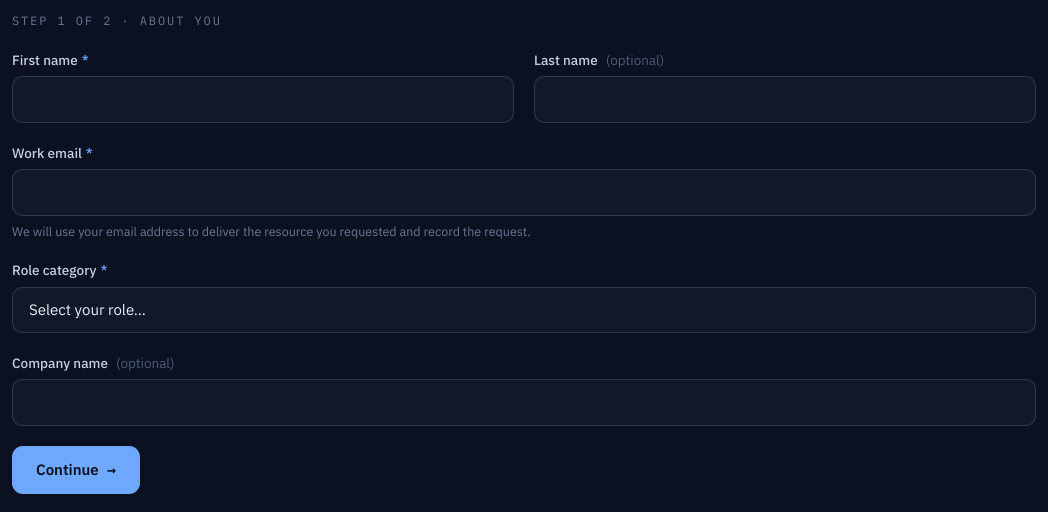
Test: LeadMagnetForm › validates the email format
The width and height of the screenshot is (1048, 512).
In the field labelled "First name*": (263,100) [12,76,514,123], type "Ada"
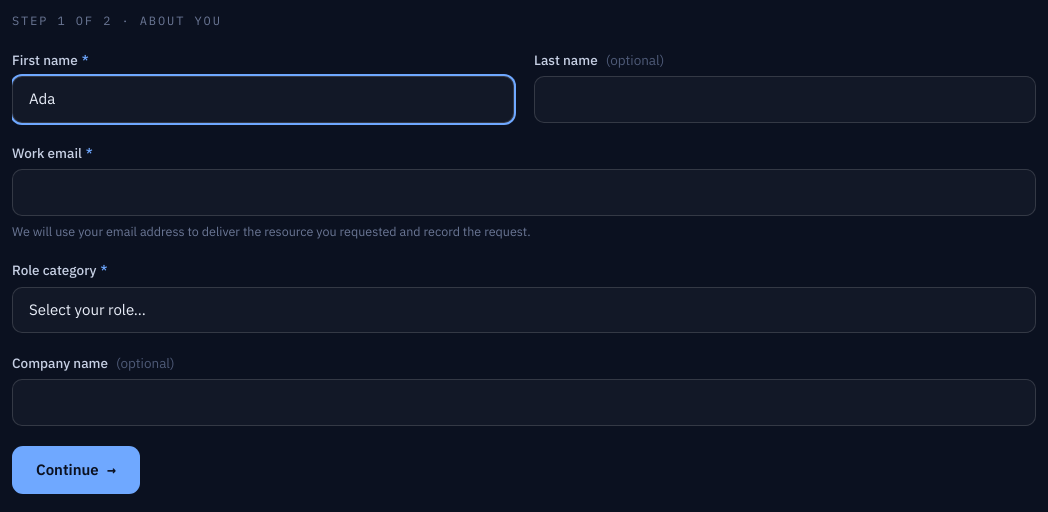
In the field labelled "Work email*": (524,192) [12,169,1036,216], type "not-an-email"
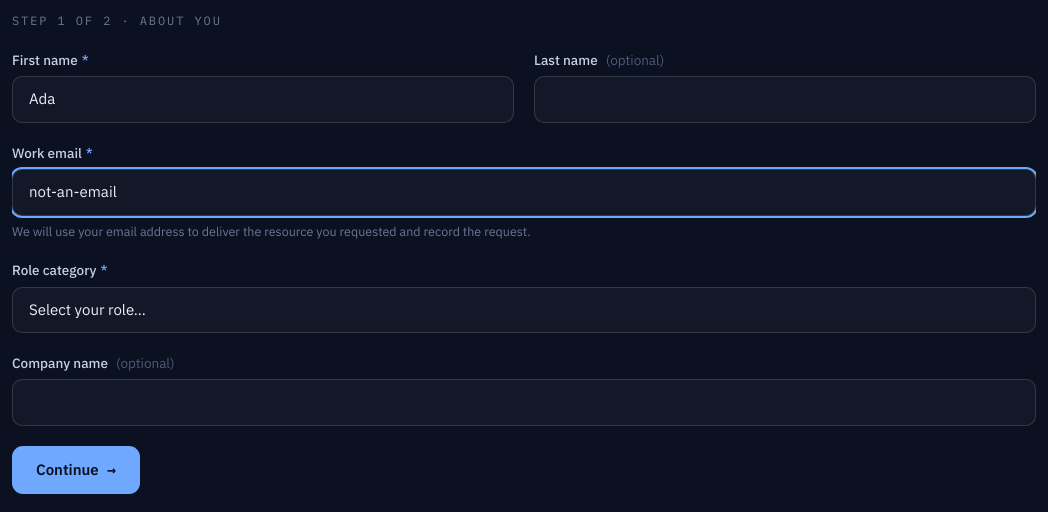
Select "CEO or founder" in the dropdown labelled "Role category*": (524,310) [12,286,1036,333]
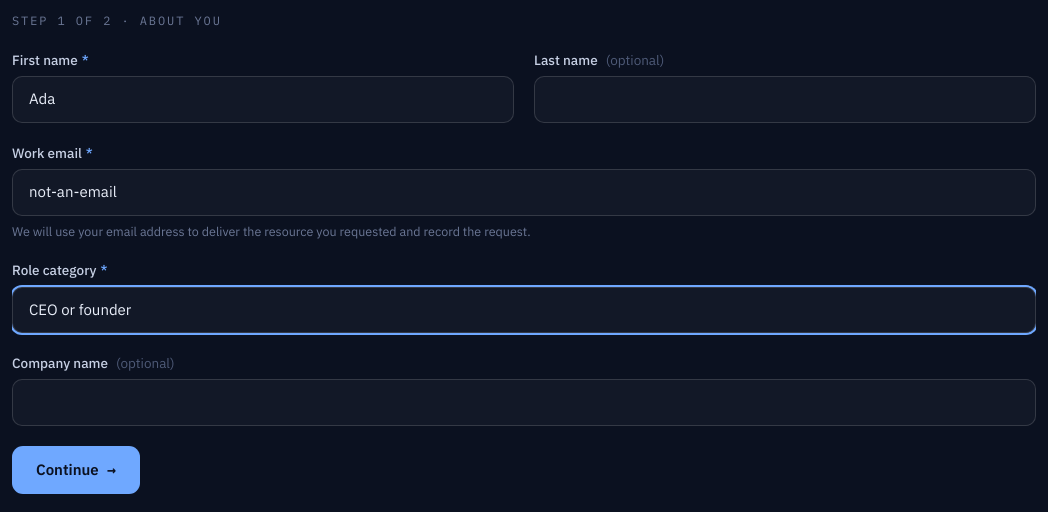
Click the button "Continue →": (76,470) [12,446,140,494]
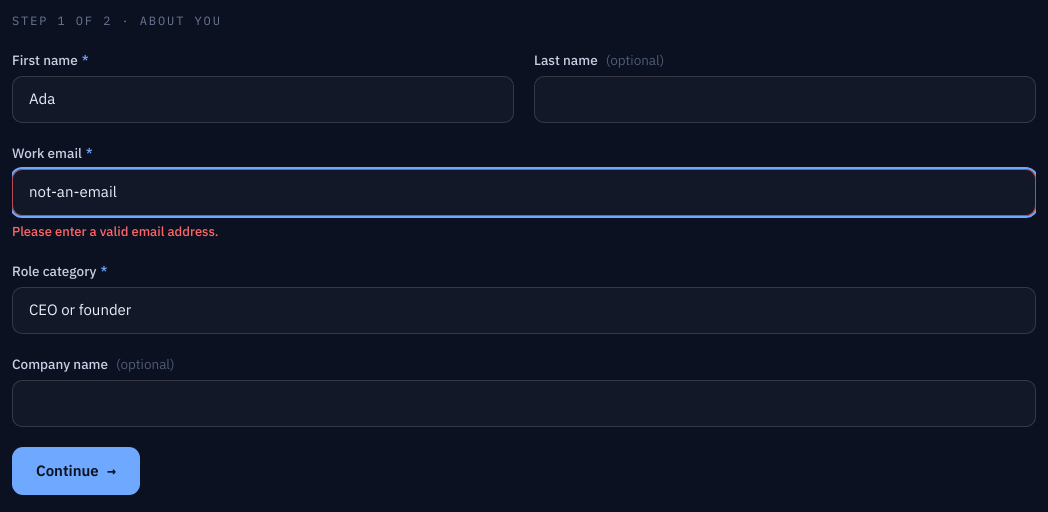
expect the text "Please enter a valid email address." is shown: met, box [12,222,218,240]
